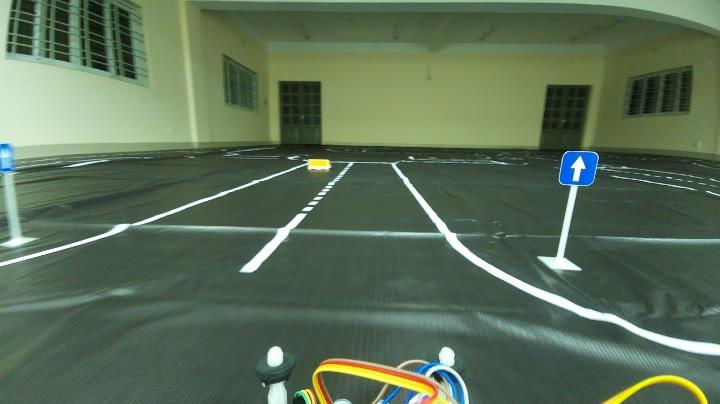onewayroad: (558, 150, 596, 189), (2, 142, 17, 171)
roadblock: (306, 152, 332, 174)
